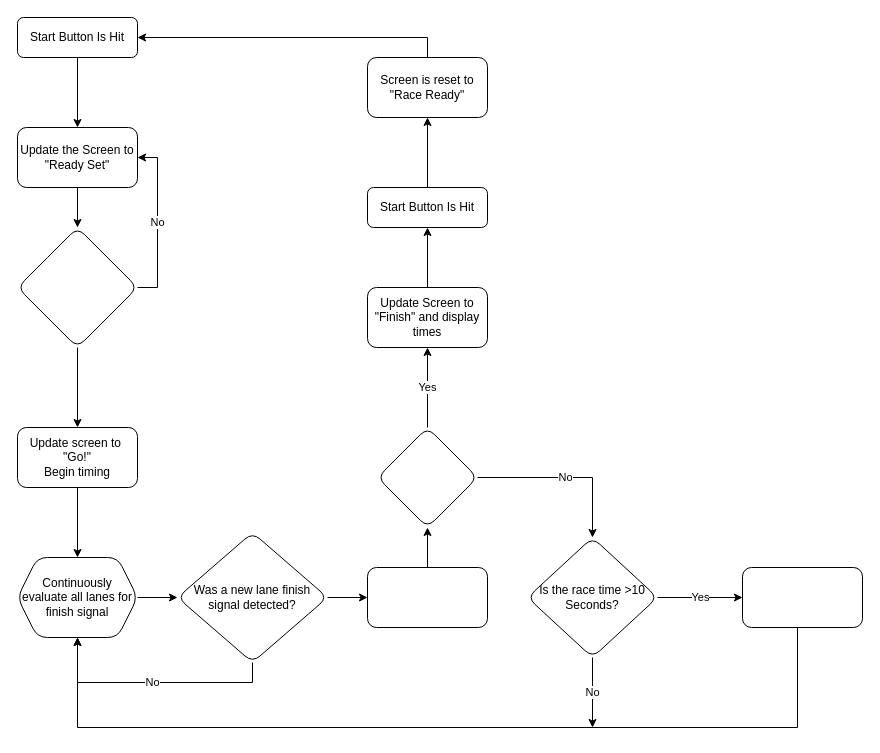
The diagram is 880 pixels wide and 753 high, and some of its shapes have lost their labels. The shapes that lost their labels are listed below. From the top down, each one's centre as x and y in pixels, then its label:
At (x=77, y=287): "Is the Starting Line triggered?".
At (x=427, y=477): "Are all lanes finished?".
At (x=427, y=597): "Record the time for the finished lane, skip lane on subsequent scans".
At (x=802, y=597): "Mark all remaining lanes as 10 sec and finished".
